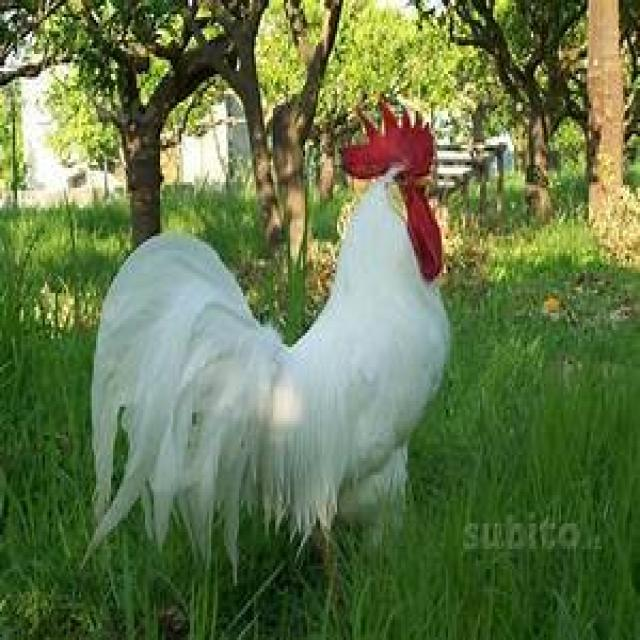hen: (90, 125, 452, 558)
